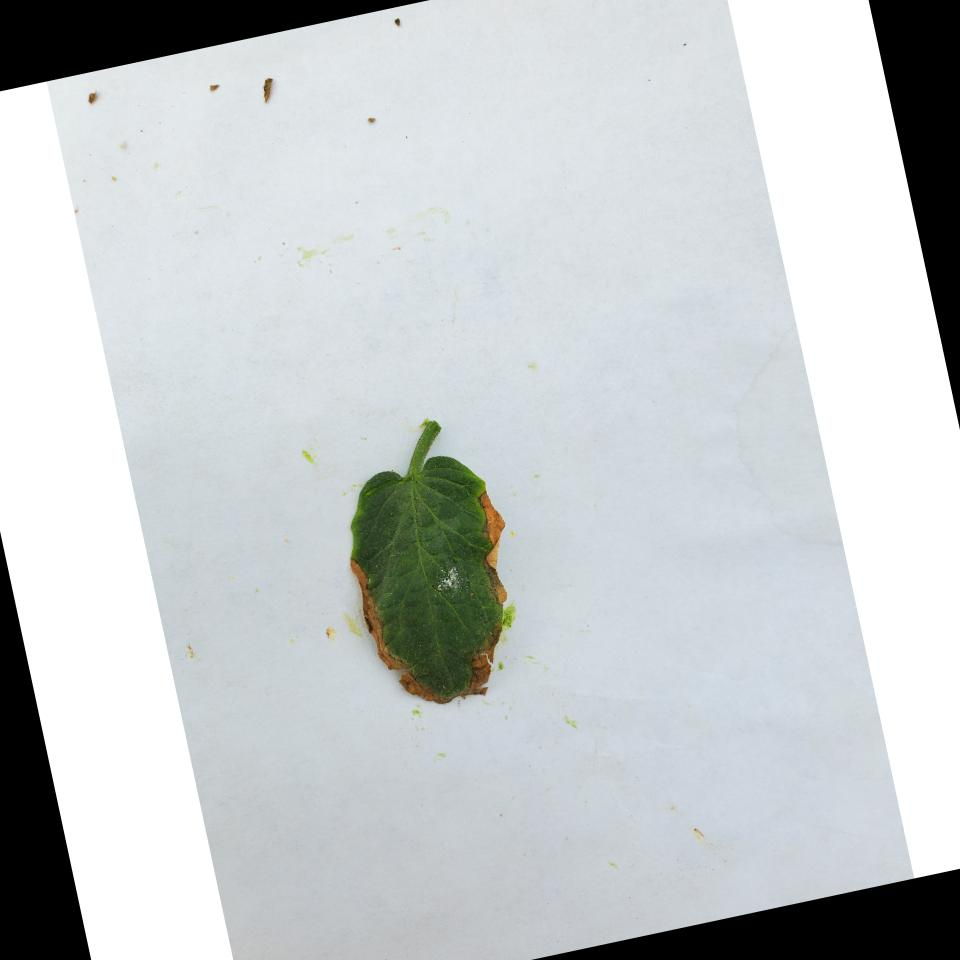tomato_bacterial_blight: (300, 386, 560, 736)
